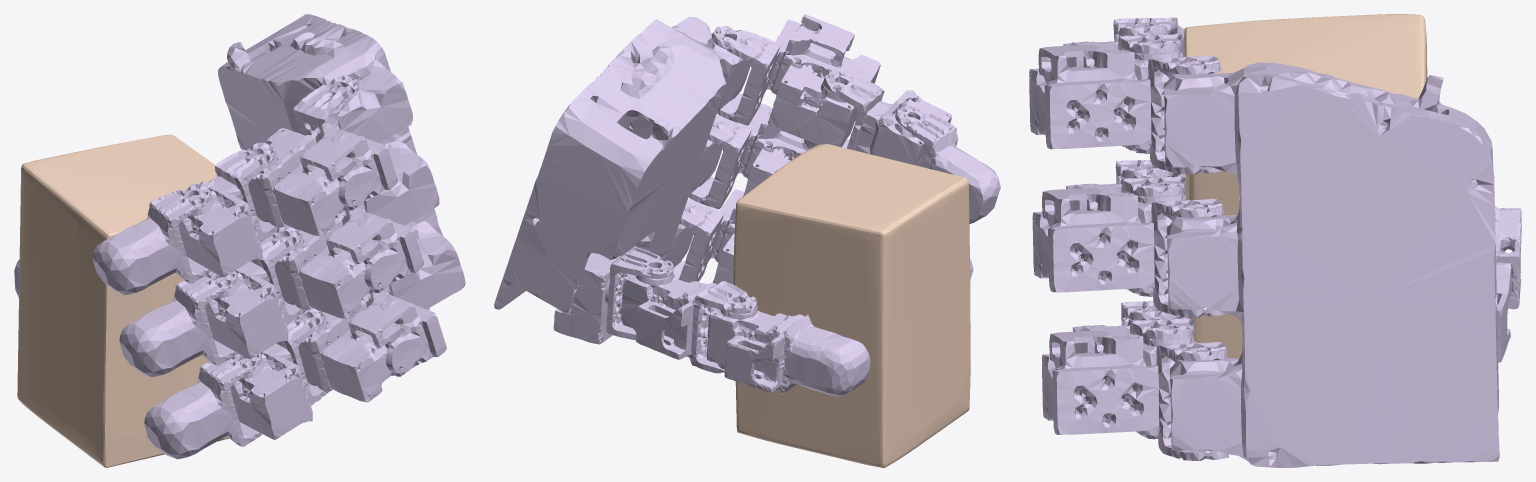
Rendered from 9591a0622aa4c7-closed.glb.
The picture shows the model from 3 angles, left to right: view 1: azimuth 30°, elevation 25°; view 2: azimuth 150°, elevation 25°; view 3: azimuth 270°, elevation 25°; orthographic projection. The views are drawn at different scales.
Parts seen in each view (by area): view 1: LEAP_hand, world; view 2: LEAP_hand, world; view 3: LEAP_hand, world.
Boxes of the visible parts, <box> form: LEAP_hand: <box>14,14,465,459</box>; world: <box>17,134,228,467</box>; LEAP_hand: <box>494,14,1000,396</box>; world: <box>733,144,970,467</box>; LEAP_hand: <box>1029,17,1521,467</box>; world: <box>1184,14,1427,358</box>.
Bounding box in the file's own units: 0.1926 × 0.1636 × 0.1548.
